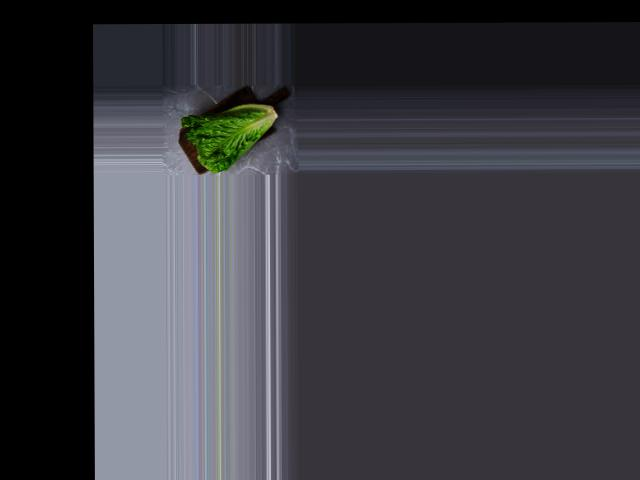lettuce: (181, 93, 282, 172)
